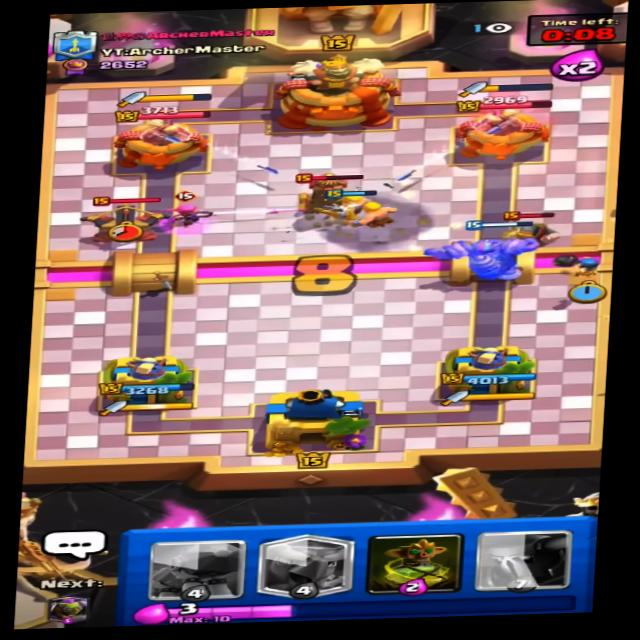evo-archers: (166, 187, 218, 224)
knight: (502, 209, 569, 246)
tesla: (285, 167, 368, 220)
x-bow: (79, 190, 176, 249)
